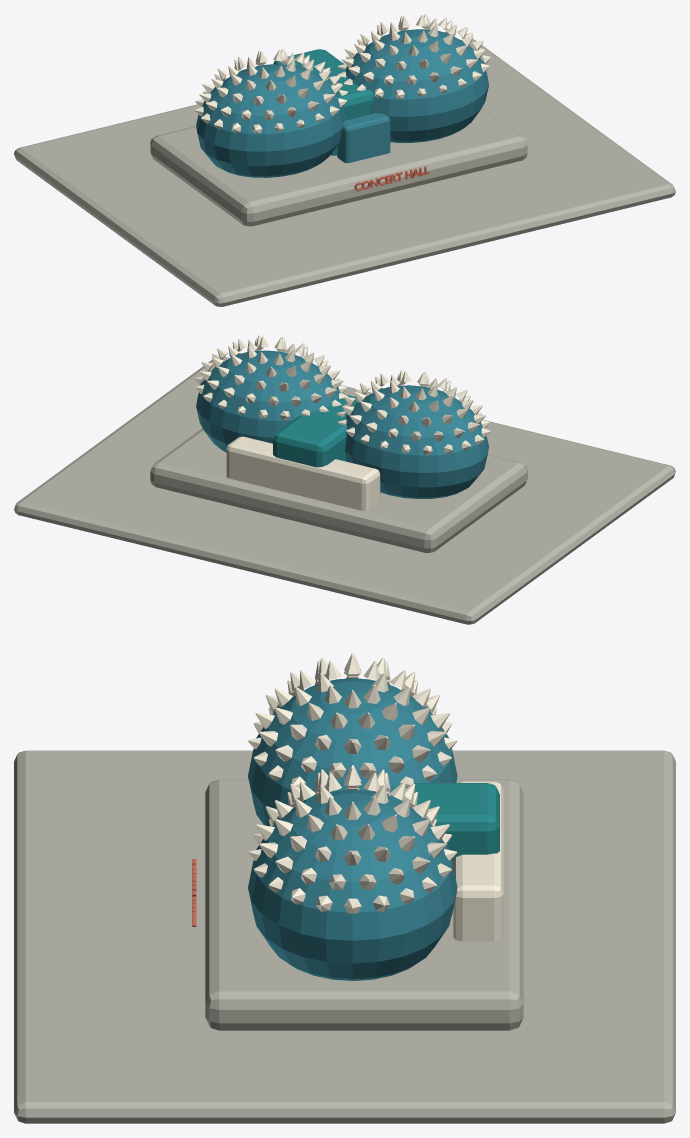
File: concert-hall-v2.glb
The picture shows the model from 3 angles, top to bottom: view 1: azimuth 30°, elevation 25°; view 2: azimuth 150°, elevation 25°; view 3: azimuth 270°, elevation 25°; orthographic projection. The views are drawn at different scales.
Visible parts, largest first — view 1: Ground, CONCERT HALL TWIN DOME KIT · Graphic glass, CONCERT HALL TWIN DOME KIT · Concrete, CONCERT HALL TWIN DOME KIT · Chalk, CONCERT HALL TWIN DOME KIT · Deep teal, CONCERT HALL TWIN DOME KIT · Terracotta; view 2: Ground, CONCERT HALL TWIN DOME KIT · Graphic glass, CONCERT HALL TWIN DOME KIT · Concrete, CONCERT HALL TWIN DOME KIT · Chalk, CONCERT HALL TWIN DOME KIT · Deep teal; view 3: Ground, CONCERT HALL TWIN DOME KIT · Graphic glass, CONCERT HALL TWIN DOME KIT · Concrete, CONCERT HALL TWIN DOME KIT · Chalk, CONCERT HALL TWIN DOME KIT · Deep teal.
Boxes of the visible parts, box(x1,y1,x2,y2) form: Ground: box(14, 39, 675, 306); CONCERT HALL TWIN DOME KIT · Graphic glass: box(196, 29, 488, 177); CONCERT HALL TWIN DOME KIT · Concrete: box(150, 107, 527, 226); CONCERT HALL TWIN DOME KIT · Chalk: box(194, 14, 490, 133); CONCERT HALL TWIN DOME KIT · Deep teal: box(273, 49, 373, 155); CONCERT HALL TWIN DOME KIT · Terracotta: box(354, 166, 429, 191); Ground: box(14, 357, 675, 624); CONCERT HALL TWIN DOME KIT · Graphic glass: box(196, 350, 488, 498); CONCERT HALL TWIN DOME KIT · Concrete: box(150, 428, 527, 552); CONCERT HALL TWIN DOME KIT · Chalk: box(194, 335, 490, 510); CONCERT HALL TWIN DOME KIT · Deep teal: box(273, 394, 357, 467); Ground: box(14, 750, 675, 1123); CONCERT HALL TWIN DOME KIT · Graphic glass: box(248, 678, 457, 980); CONCERT HALL TWIN DOME KIT · Concrete: box(205, 779, 523, 1030); CONCERT HALL TWIN DOME KIT · Chalk: box(248, 653, 503, 941); CONCERT HALL TWIN DOME KIT · Deep teal: box(303, 783, 499, 865).
Size of the model in its own units: 11 by 3.11 by 8.53.
1 material, 1 textured.
